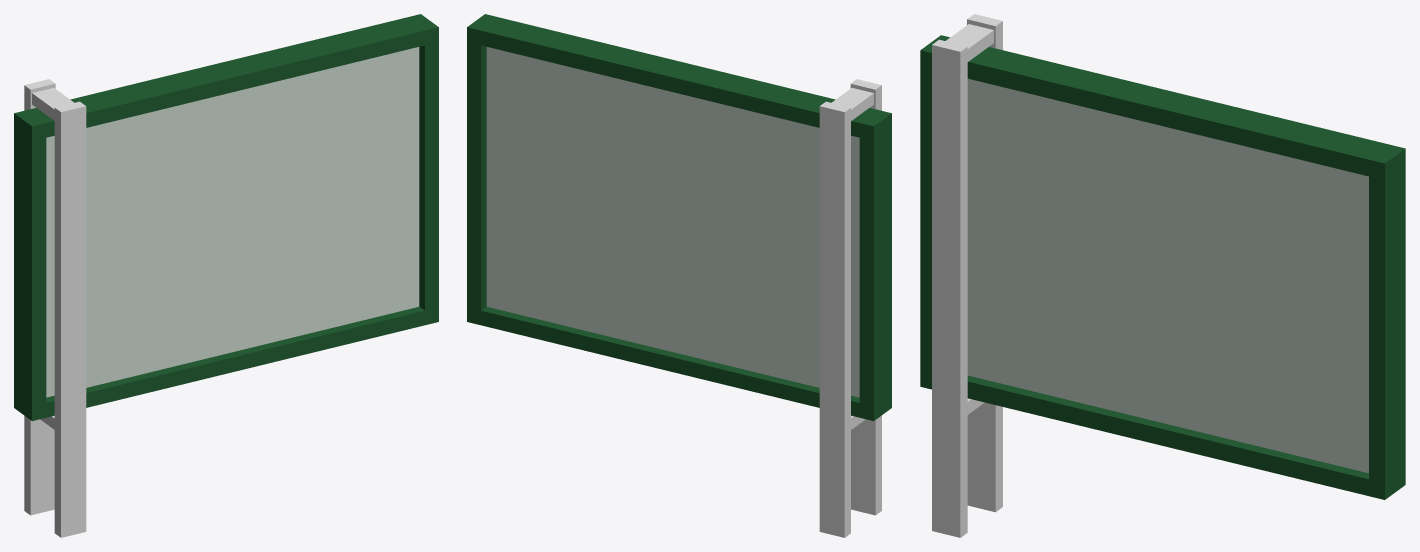
Rendered from mode_gantry.FBX.
The picture shows the model from 3 angles, left to right: view 1: azimuth 30°, elevation 25°; view 2: azimuth 150°, elevation 25°; view 3: azimuth 330°, elevation 25°; orthographic projection. The views are drawn at different scales.
Visible parts, largest first — view 1: Box001, Box002; view 2: Box001, Box002; view 3: Box001, Box002.
Part boxes in pixels (x1,y1,x2,y2): Box001: [14, 14, 438, 420]; Box002: [24, 79, 86, 537]; Box001: [467, 14, 891, 420]; Box002: [819, 79, 881, 537]; Box001: [920, 35, 1405, 499]; Box002: [932, 14, 1002, 537].
Size of the model in its own units: 130 by 130 by 20.5.
1 material, 1 textured.
